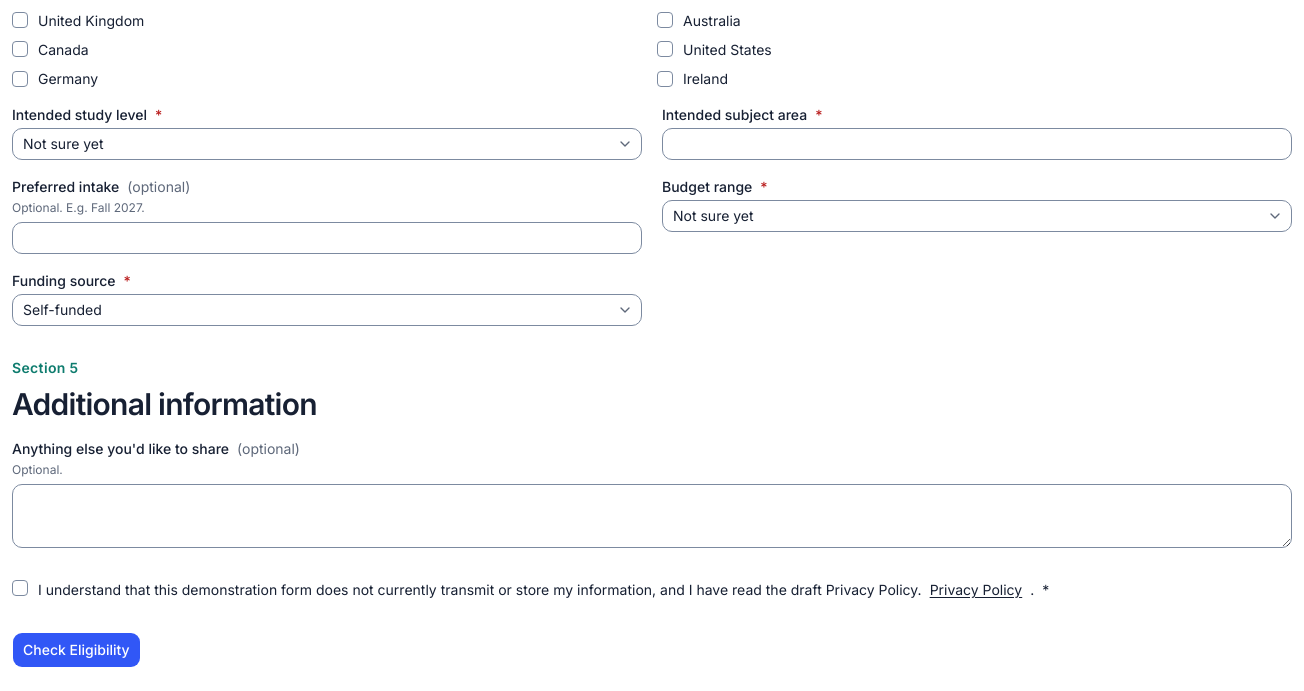
it: EligibilityForm › shows accessible inline errors and an error summary when submitted empty
(page scrolled)
Click the button "Check Eligibility" at (76, 650), box left=12, top=632, right=141, bottom=668
(page scrolled)
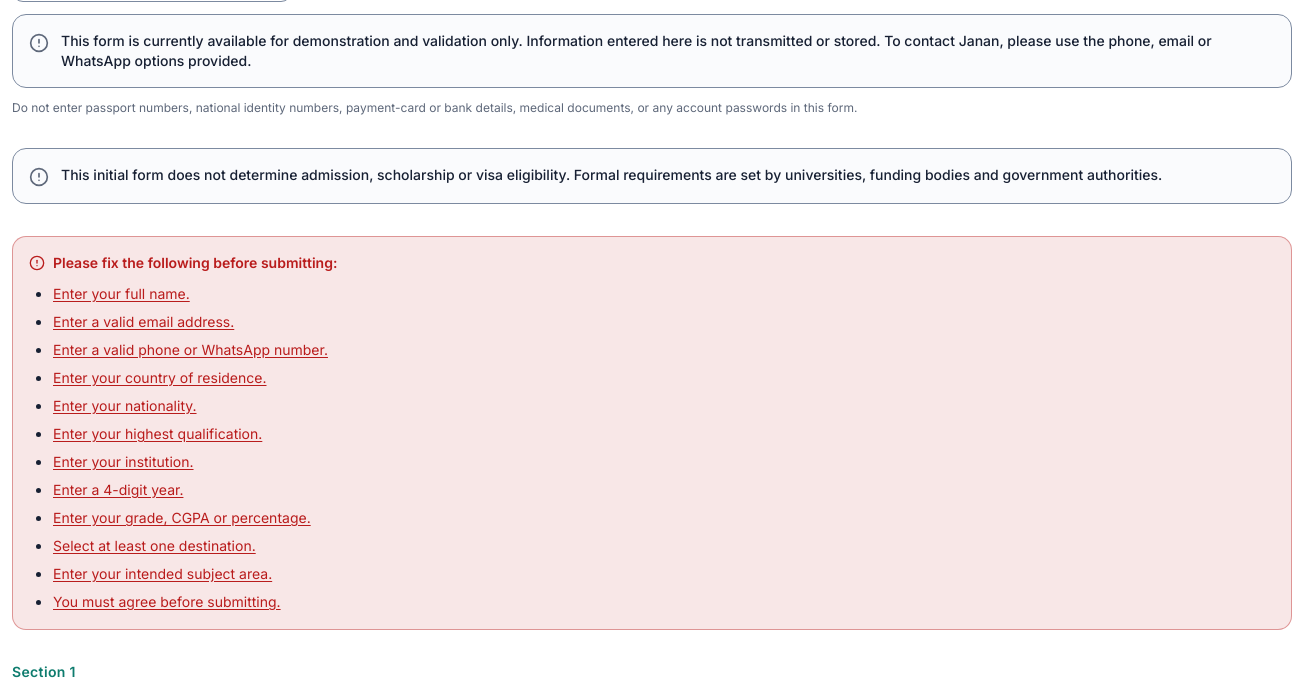
Now the message is shown, box left=12, top=236, right=1292, bottom=630
Now the link "Enter your full name." is shown, box left=53, top=285, right=190, bottom=302
